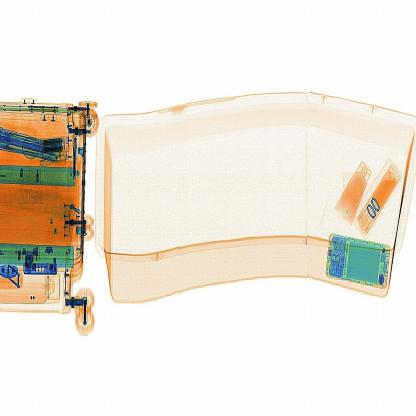knife: (65, 126, 88, 188)
